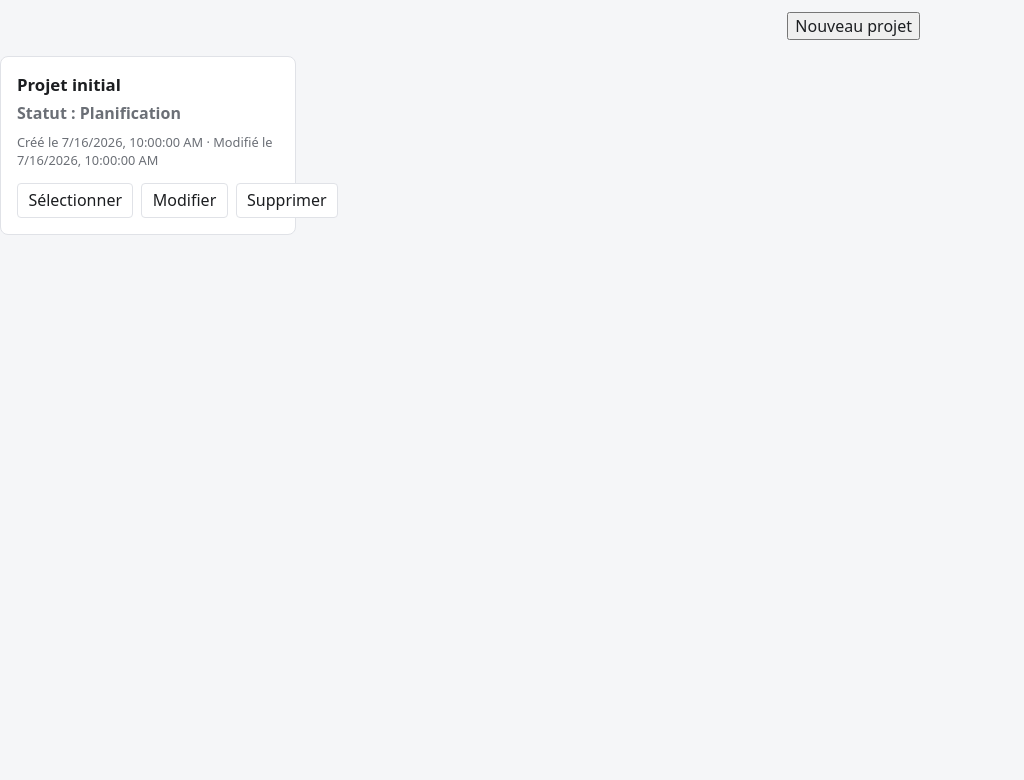
Test case: ProjectsPage — modification › pré-remplit le formulaire et met à jour le projet affiché
This screenshot has width=1024, height=780.
Check: the heading "Projet initial" is shown, box [17,73,121,96]
Click the button "Modifier".
click(184, 200)  # box [141,183,228,218]
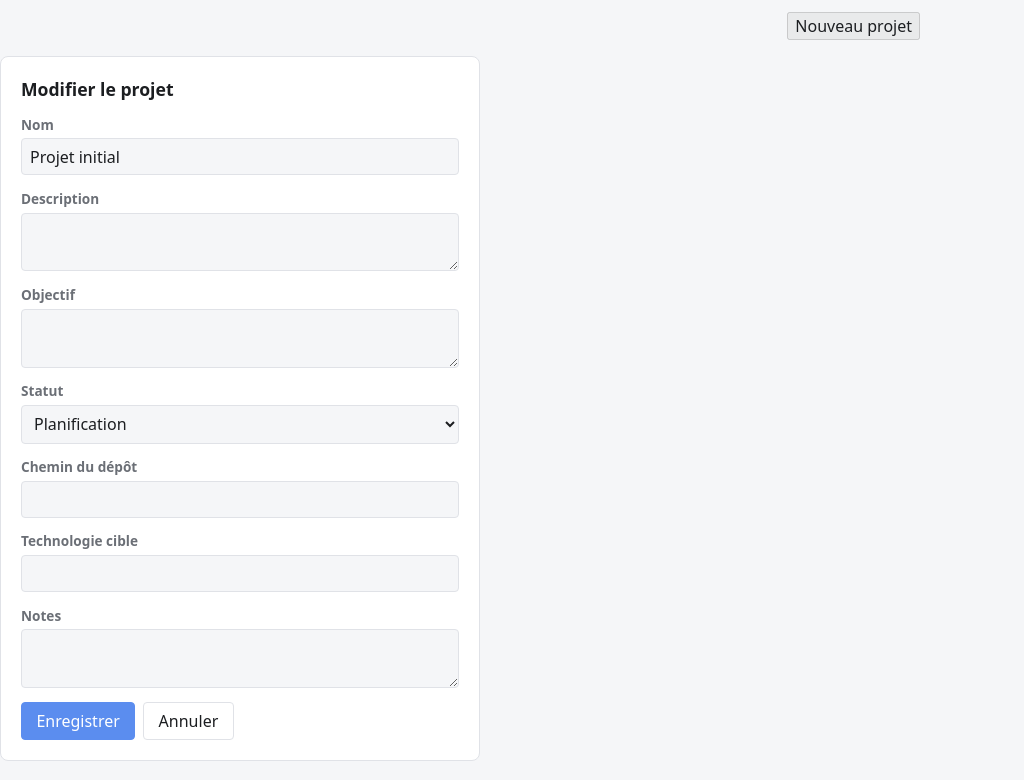
Check: the field labelled "Nom" holds "Projet initial"
Replace the text in the field labelled "Nom" with "Projet renommé" at x=240, y=157, box [21,138,459,175]
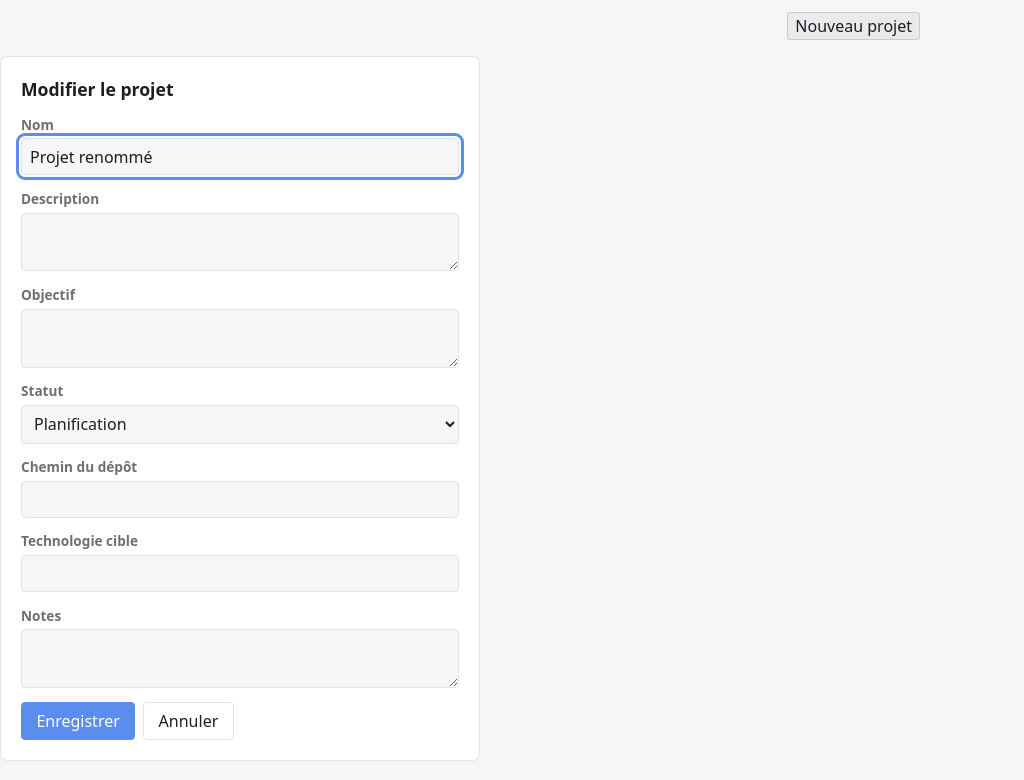
Click the button "Enregistrer".
click(78, 721)  # box [21,702,135,740]
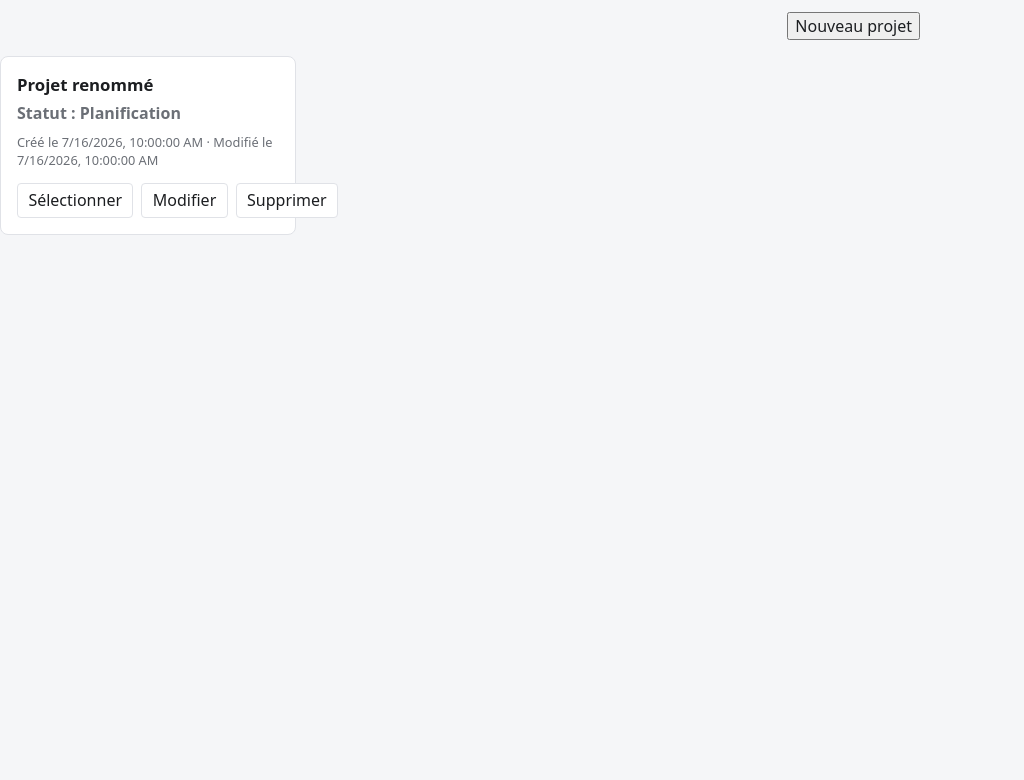
Check: the heading "Projet renommé" is shown, box [17,73,153,96]
